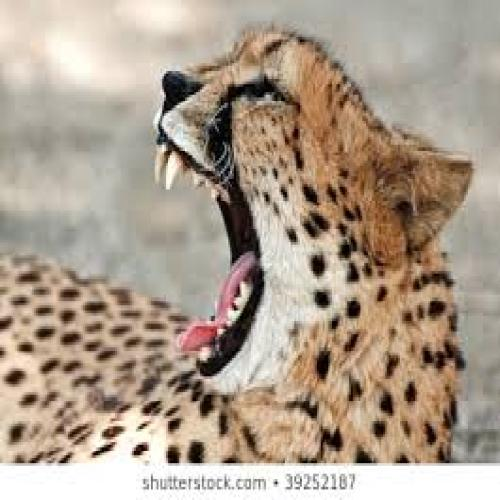cheetah-endangered: (0, 31, 457, 462)
